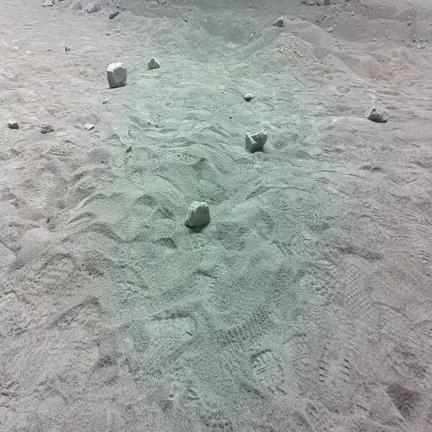Rock: (185, 202, 210, 227), (107, 63, 127, 88), (246, 129, 267, 152), (365, 101, 387, 122), (148, 57, 160, 70), (273, 16, 284, 27), (86, 3, 98, 13), (68, 0, 78, 10), (41, 125, 53, 133), (8, 120, 18, 129), (317, 0, 330, 6), (301, 0, 316, 5), (110, 11, 119, 19), (42, 0, 53, 6), (244, 94, 253, 101), (85, 124, 95, 130), (103, 98, 109, 104), (126, 145, 131, 152), (65, 46, 70, 52), (326, 27, 332, 32), (13, 46, 18, 51)
